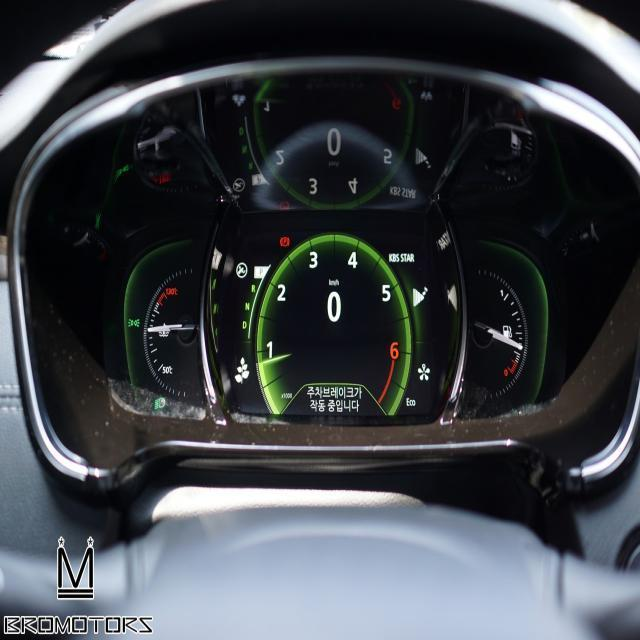Low beam: (153, 396, 165, 409)
SideLamp: (126, 317, 140, 327)
